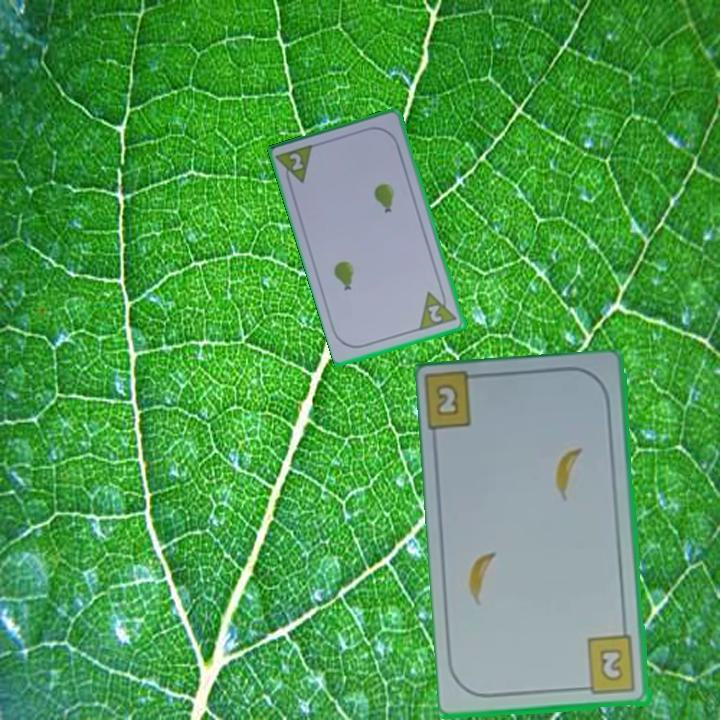2b: (424, 371, 489, 436), (578, 633, 639, 697)
2p: (274, 141, 318, 191), (425, 301, 446, 325)
